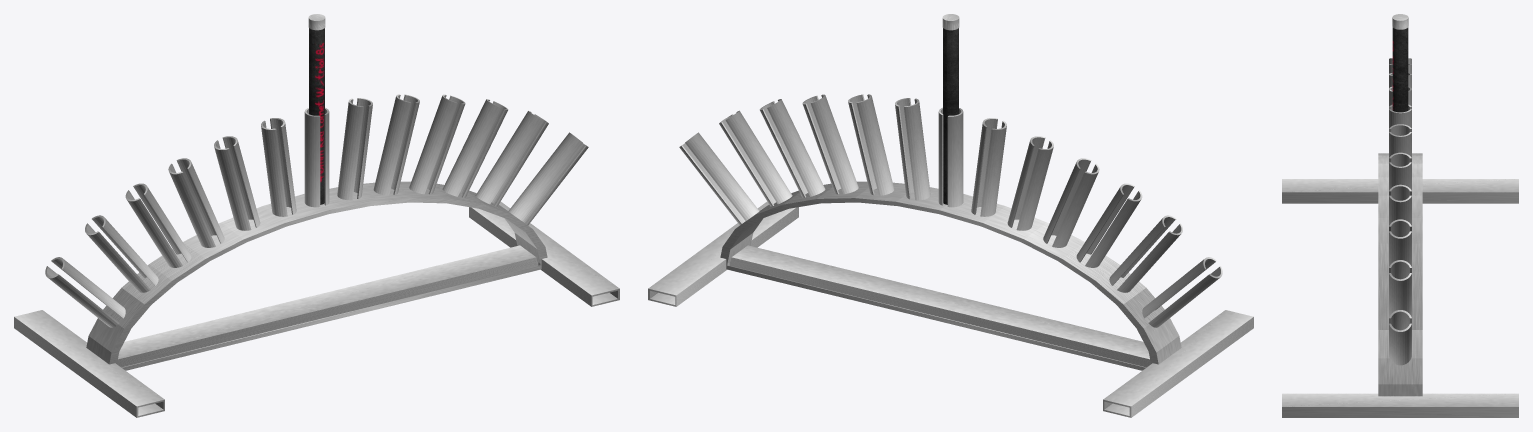
File: 40mmRack13s.fbx
3 views of the same model, side by side, from view 1: azimuth 30°, elevation 25°; view 2: azimuth 150°, elevation 25°; view 3: azimuth 270°, elevation 25° (orthographic). The views are drawn at different scales.
Parts seen in each view (by area): view 1: Arc, Arc Bottom, Support Leg.001, Support Leg, 40mm Candle Holder.004, 40mm Candle Holder.003, 40mm Candle Holder.005, 40mm Candle Holder.002, 40mm Candle Holder.001, 40mm Candle Holder.006, 40mm Candle Holder.012, 40mm Candle Holder.011 (+6 smaller); view 2: Arc, Arc Bottom, Support Leg.001, Support Leg, 40mm Candle Holder.004, 40mm Candle Holder.003, 40mm Candle Holder.005, 40mm Candle Holder.002, 40mm Candle Holder.001, 40mm Candle Holder.006, 40mm Candle Holder.012, 40mm Candle Holder.011 (+6 smaller); view 3: Arc, Support Leg, Support Leg.001, 40mmCandle, 40mm Candle Holder.006, 40mm Candle Holder.005, 40mm Candle Holder.004, 40mm Candle Holder.003, 40mm Candle Holder.002, 40mm Candle Holder.001, 40mm Candle Holder, Top Cap.
Boxes of the visible parts, bbox=[...] form: Arc: bbox=[86, 181, 547, 370]; Arc Bottom: bbox=[117, 245, 538, 367]; Support Leg.001: bbox=[14, 310, 164, 417]; Support Leg: bbox=[469, 201, 619, 306]; 40mm Candle Holder.004: bbox=[442, 99, 508, 197]; 40mm Candle Holder.003: bbox=[409, 94, 465, 194]; 40mm Candle Holder.005: bbox=[475, 110, 548, 206]; 40mm Candle Holder.002: bbox=[373, 94, 419, 195]; 40mm Candle Holder.001: bbox=[337, 98, 372, 200]; 40mm Candle Holder.006: bbox=[508, 132, 588, 225]; 40mm Candle Holder.012: bbox=[261, 118, 296, 216]; 40mm Candle Holder.011: bbox=[214, 136, 260, 230]; Arc: bbox=[720, 181, 1181, 370]; Arc Bottom: bbox=[729, 245, 1150, 367]; Support Leg.001: bbox=[1103, 310, 1253, 417]; Support Leg: bbox=[648, 201, 798, 306]; 40mm Candle Holder.004: bbox=[759, 99, 825, 197]; 40mm Candle Holder.003: bbox=[802, 94, 858, 194]; 40mm Candle Holder.005: bbox=[719, 110, 792, 206]; 40mm Candle Holder.002: bbox=[848, 94, 894, 195]; 40mm Candle Holder.001: bbox=[895, 98, 930, 200]; 40mm Candle Holder.006: bbox=[679, 132, 759, 225]; 40mm Candle Holder.012: bbox=[971, 118, 1006, 216]; 40mm Candle Holder.011: bbox=[1007, 136, 1053, 230]; Arc: bbox=[1378, 153, 1422, 396]; Support Leg: bbox=[1282, 393, 1518, 417]; Support Leg.001: bbox=[1282, 179, 1518, 203]; 40mmCandle: bbox=[1392, 27, 1408, 112]; 40mm Candle Holder.006: bbox=[1389, 310, 1411, 365]; 40mm Candle Holder.005: bbox=[1389, 260, 1411, 316]; 40mm Candle Holder.004: bbox=[1389, 219, 1411, 267]; 40mm Candle Holder.003: bbox=[1389, 184, 1411, 225]; 40mm Candle Holder.002: bbox=[1389, 152, 1411, 190]; 40mm Candle Holder.001: bbox=[1389, 124, 1411, 157]; 40mm Candle Holder: bbox=[1389, 104, 1411, 128]; Top Cap: bbox=[1392, 14, 1408, 29].
Size of the model in its own units: 305 by 160 by 120.
